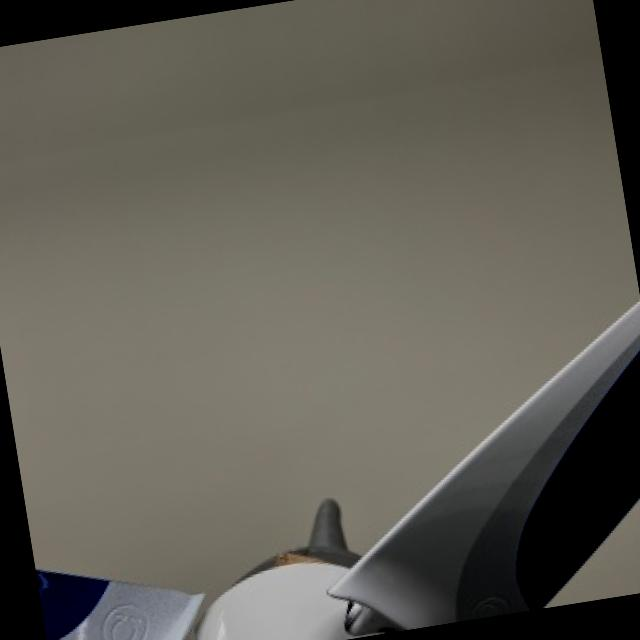healthy: (38, 570, 201, 640)
